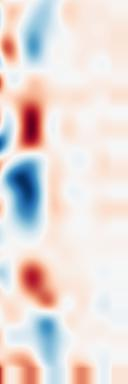filament: (9, 97, 52, 154)
